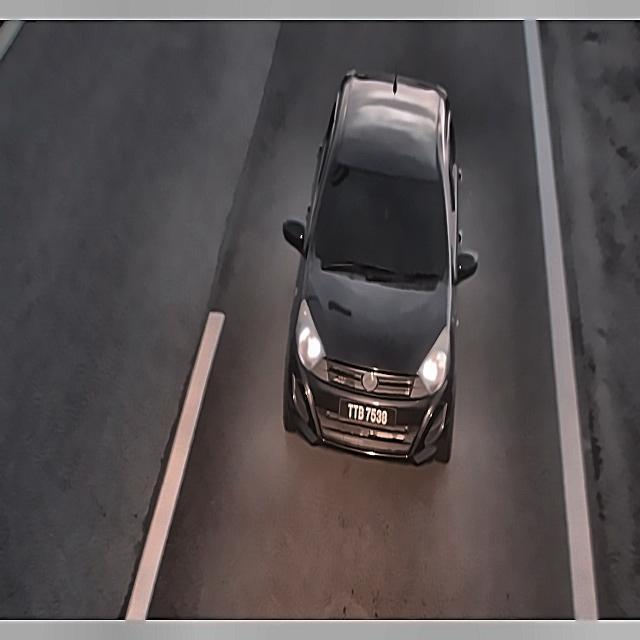car: (336, 391, 400, 438)
